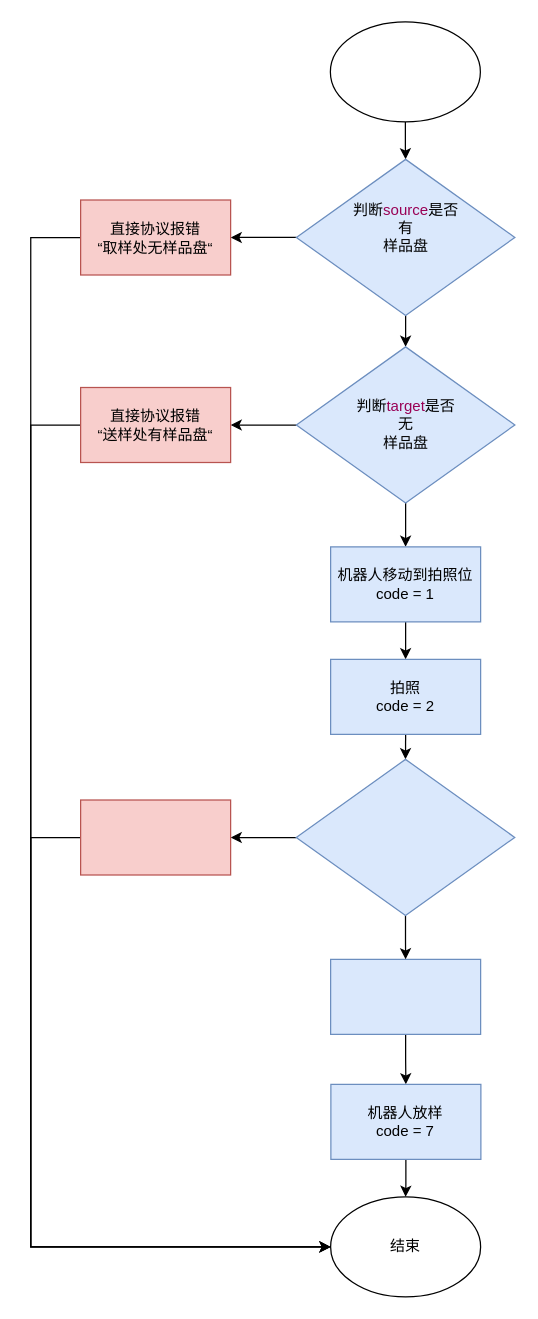
This 538x1319 diagram has some shape labels left out. Here are the shapes that lost their labels. From the top down, the centre of each, then its label:
pixel 404 71: 样品盘搬运
pixel 155 837: 报错 “样品盘二维码异常“
pixel 405 837: 对比样品盘二维码是否符合要求 code = 3
pixel 405 996: 抓取 code = 5
